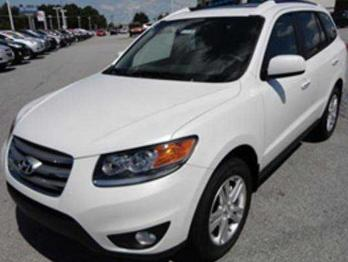front_view: (2, 122, 203, 246)
headlight: (86, 141, 202, 188)
side_glass: (253, 10, 333, 81)
